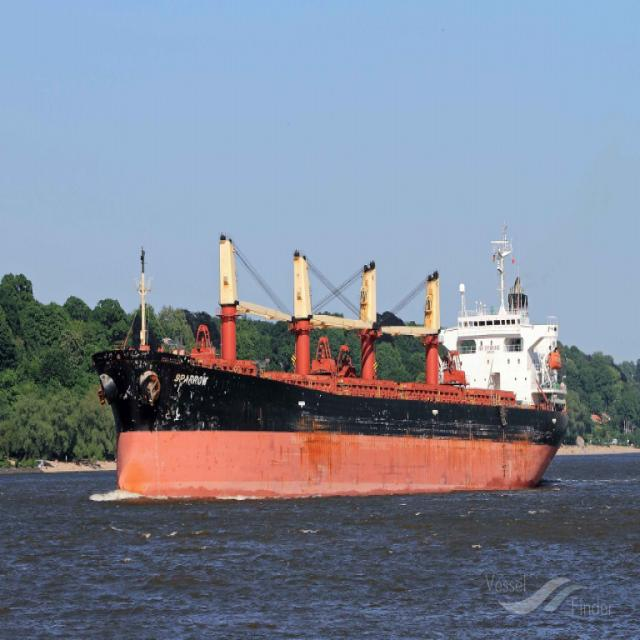OCR: (172, 367, 213, 392)
